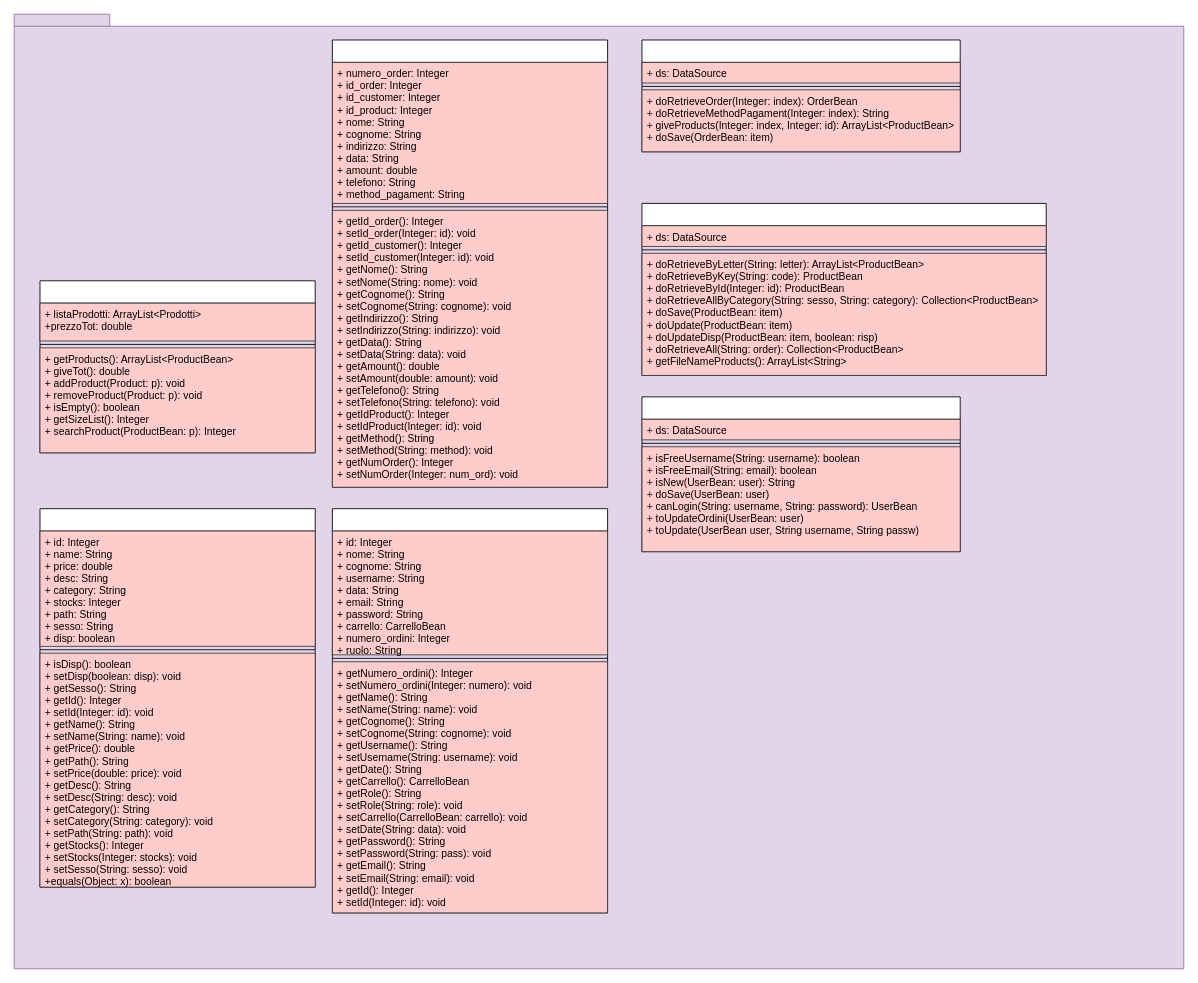
This 1198x983 diagram has some shape labels left out. The box of each missing label's shape, as (x1, y1, x2, y2) in pixels:
CarrelloBean: (39, 280, 315, 453)
OrderBean: (332, 39, 608, 487)
OrderModelDS: (641, 39, 960, 152)
ProductBean: (39, 508, 315, 887)
ProductModelDS: (641, 203, 1046, 375)
UserBean: (332, 508, 608, 913)
UserModelDS: (641, 396, 960, 552)
